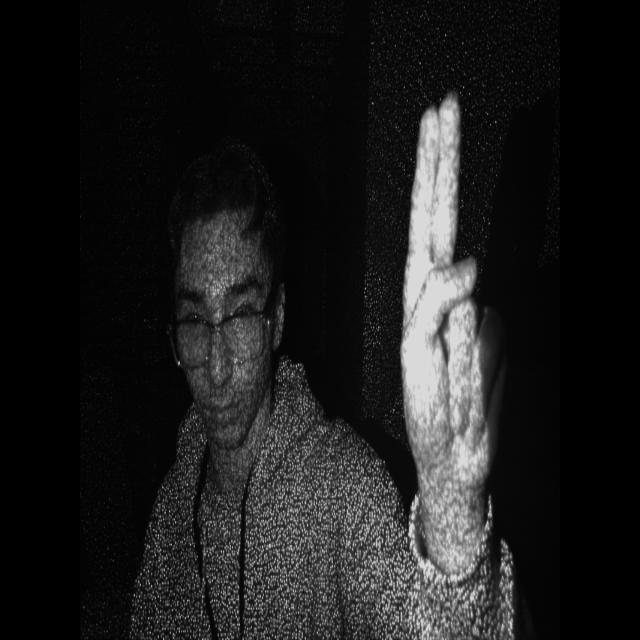U: (395, 81, 525, 490)
